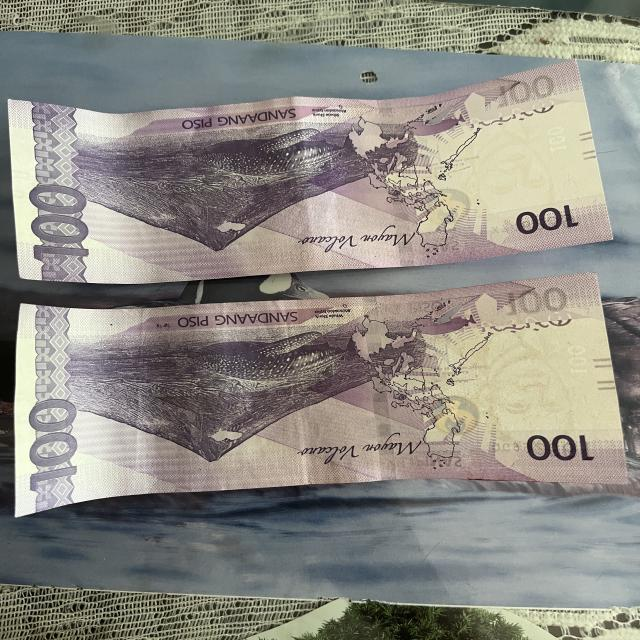100_whale: (188, 318, 374, 389), (170, 128, 364, 188)
100_whale_watermark: (393, 300, 490, 342), (385, 101, 470, 145)
value_watermark: (552, 334, 602, 389), (536, 118, 576, 157)
watermark: (458, 306, 604, 460), (453, 101, 592, 232)
